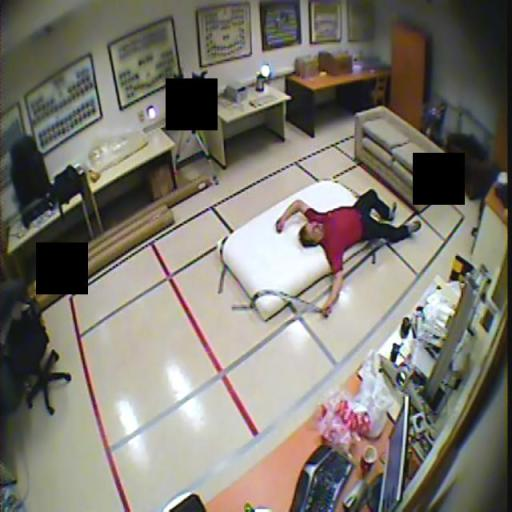Fall: (275, 189, 423, 319)
